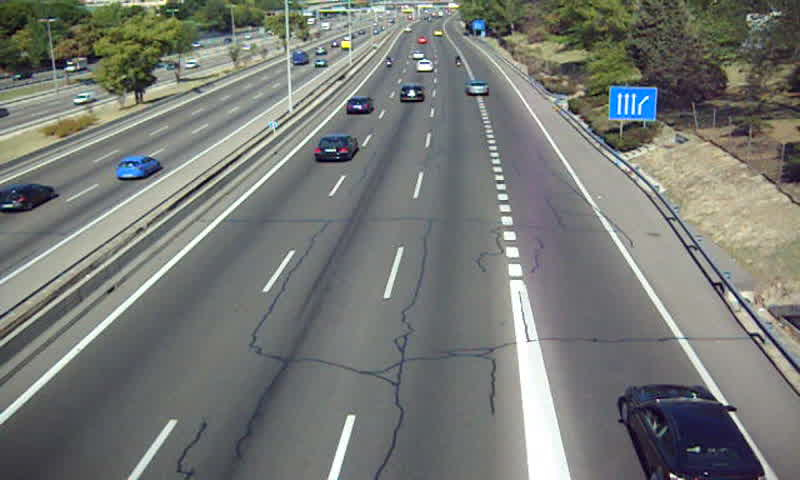car: (623, 385, 764, 480), (312, 134, 357, 163), (399, 82, 424, 103), (346, 96, 372, 116), (465, 80, 490, 97), (415, 58, 434, 72)
motorcycle: (385, 54, 394, 71), (454, 55, 464, 69)
